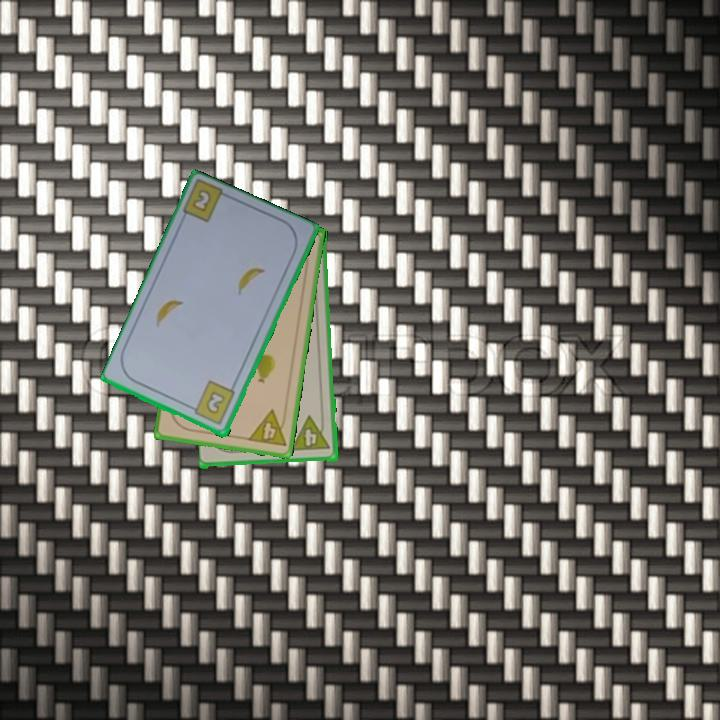2b: (186, 378, 238, 428), (191, 188, 212, 213)
4p: (244, 406, 290, 450), (289, 413, 333, 454)
